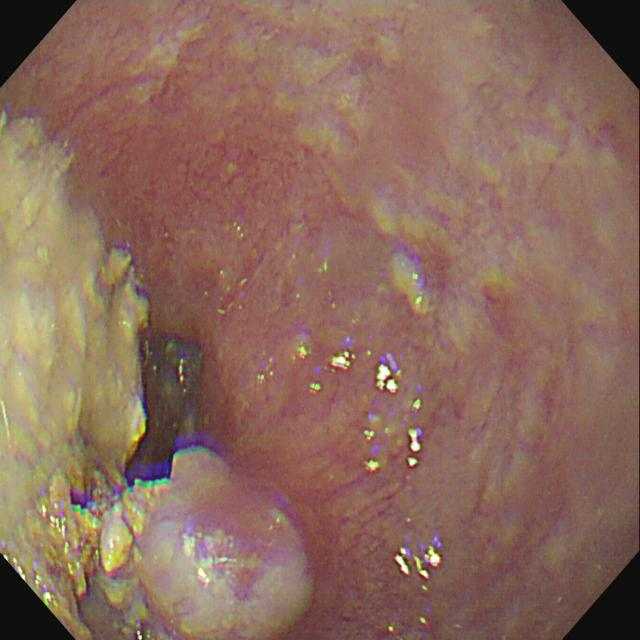B: (2, 105, 155, 640), (154, 447, 318, 638)
U: (392, 542, 443, 582), (375, 356, 403, 397), (408, 424, 426, 471), (331, 350, 356, 375), (293, 344, 313, 364), (307, 381, 326, 398), (363, 458, 382, 475), (364, 428, 380, 445)
